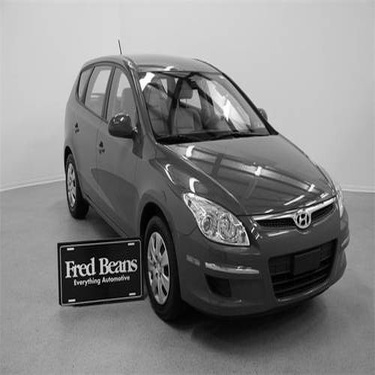car: (46, 38, 354, 323)
